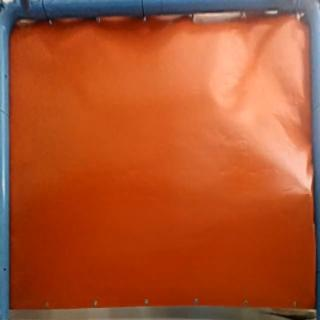Hit-hRxx: (300, 185, 314, 201)
